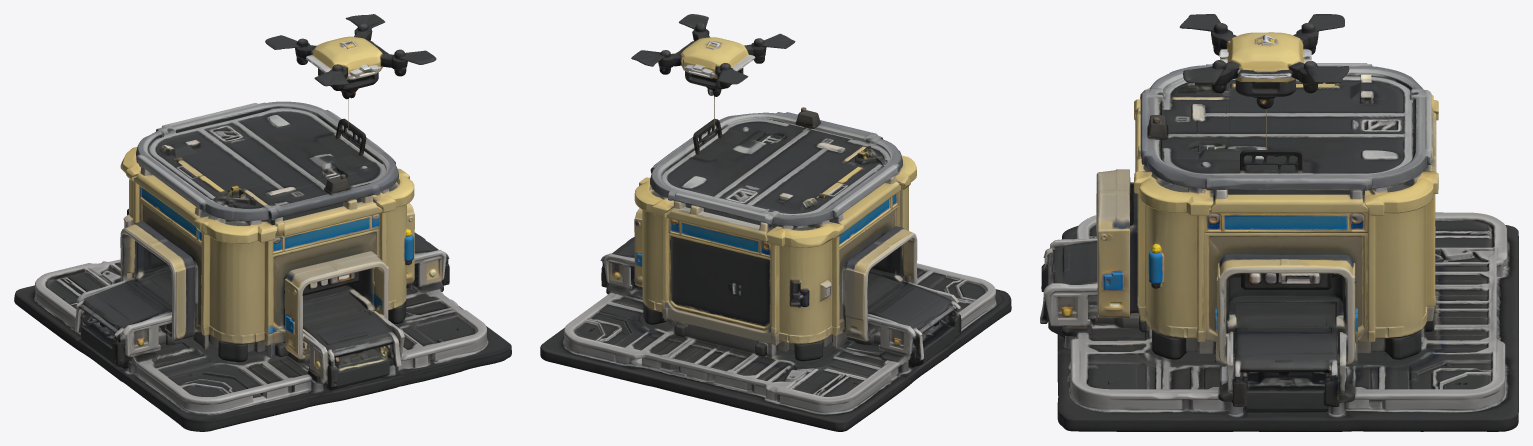
File: loader_alt.glb
3 views of the same model, side by side, from view 1: azimuth 30°, elevation 25°; view 2: azimuth 150°, elevation 25°; view 3: azimuth 270°, elevation 25° (orthographic). The views are drawn at different scales.
Visible parts, largest first — view 1: tripo_node_3bc6f753-8a9b-412e-ac72-7721fbd8f83c; view 2: tripo_node_3bc6f753-8a9b-412e-ac72-7721fbd8f83c; view 3: tripo_node_3bc6f753-8a9b-412e-ac72-7721fbd8f83c.
Part boxes in pixels (bbox=[...]): tripo_node_3bc6f753-8a9b-412e-ac72-7721fbd8f83c: bbox=[14, 14, 511, 431]; tripo_node_3bc6f753-8a9b-412e-ac72-7721fbd8f83c: bbox=[540, 14, 1011, 431]; tripo_node_3bc6f753-8a9b-412e-ac72-7721fbd8f83c: bbox=[1040, 14, 1518, 431].
Size of the model in its own units: 0.9802 by 0.7712 by 0.972.
Materials: 1 (1 with a texture image).
